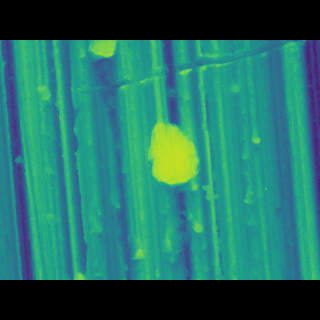Loch: (32, 68, 303, 114), (143, 126, 205, 184)
